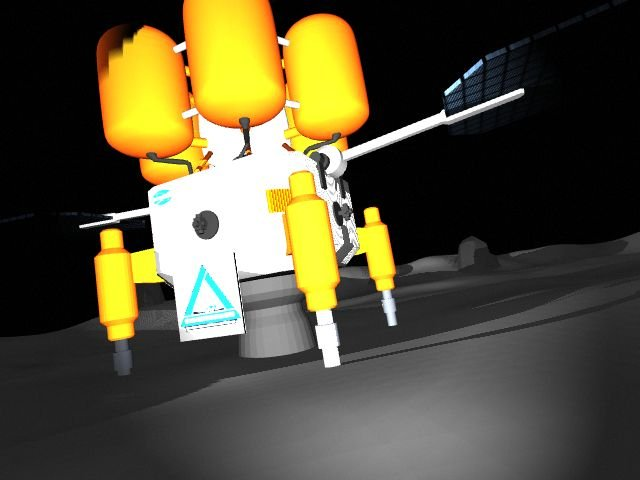basemarker: (180, 263, 241, 332)
